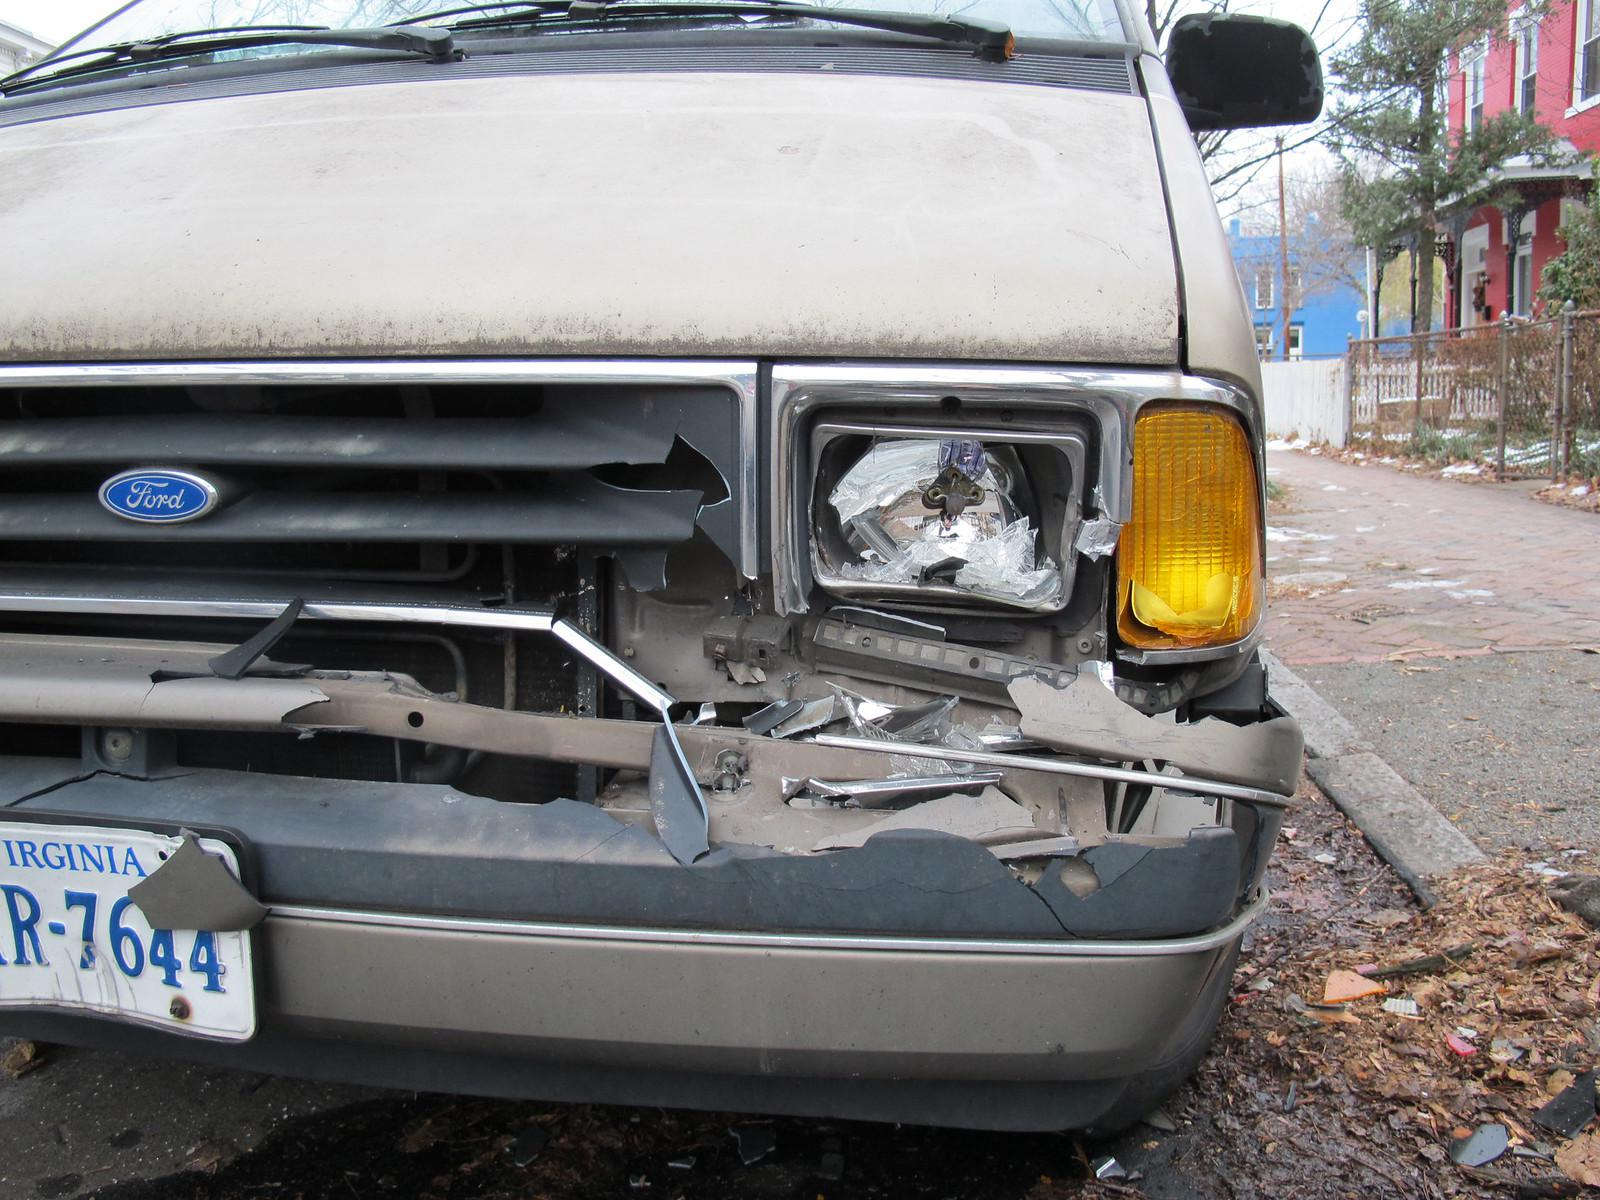Headlight-Damage: (682, 383, 1206, 889)
